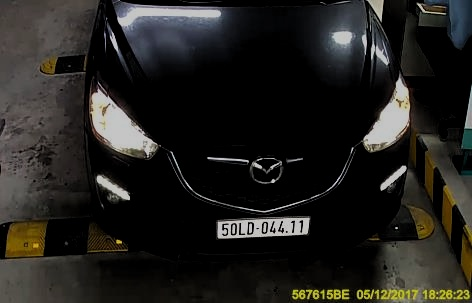plate: (214, 213, 313, 241)
